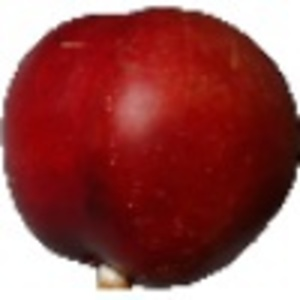nectarina: (1, 1, 300, 297)
